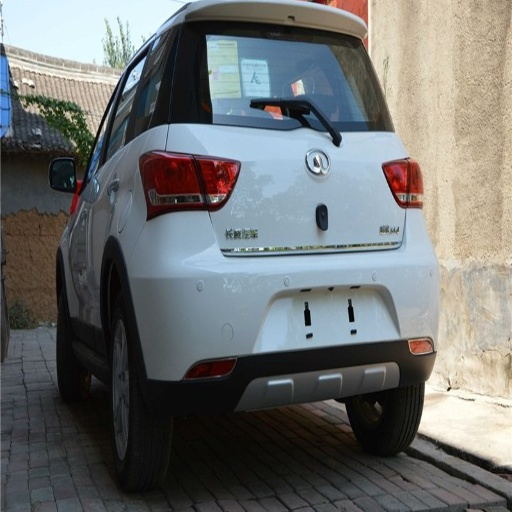back_bumper: (123, 209, 439, 388)
trunk: (175, 125, 407, 255)
